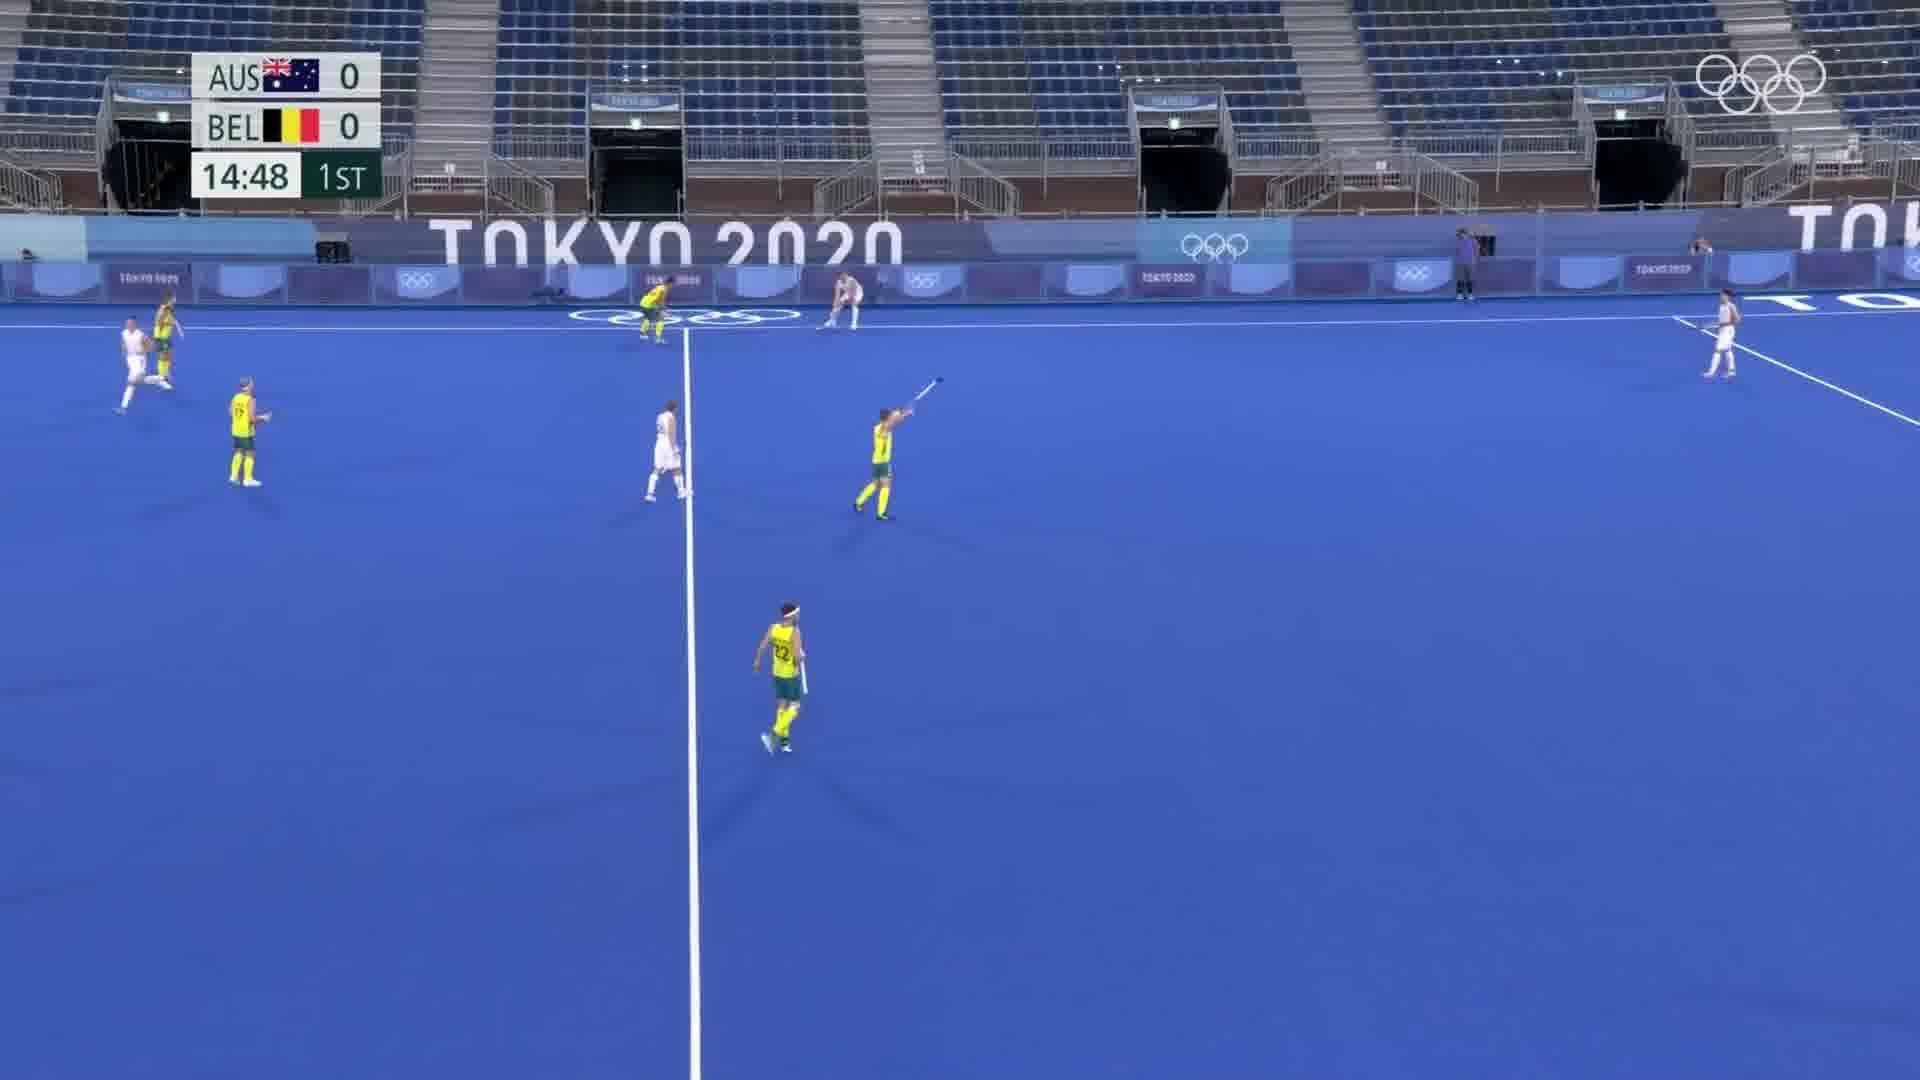ball: (812, 320, 827, 334)
